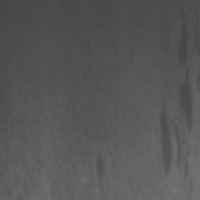inclusion: (157, 9, 198, 189), (84, 150, 109, 195)
